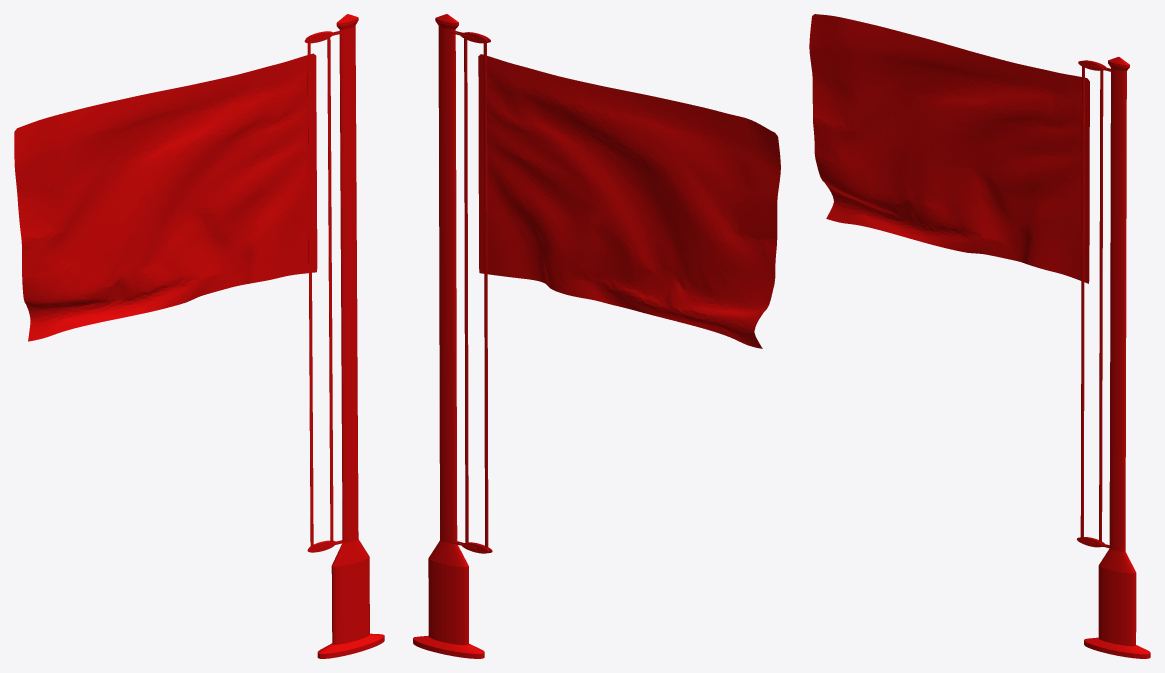
Rendered from flagRed.fbx.
The picture shows the model from 3 angles, left to right: view 1: azimuth 30°, elevation 25°; view 2: azimuth 150°, elevation 25°; view 3: azimuth 330°, elevation 25°; orthographic projection. The views are drawn at different scales.
Visible parts, largest first — view 1: $$$DUMMY.____1; view 2: $$$DUMMY.____1; view 3: $$$DUMMY.____1.
Part boxes in pixels (x1=…): $$$DUMMY.____1: x1=14, y1=14, x2=384, y2=658; $$$DUMMY.____1: x1=413, y1=14, x2=780, y2=658; $$$DUMMY.____1: x1=809, y1=14, x2=1150, y2=658.
Size of the model in its own units: 172 by 284 by 11.63.
